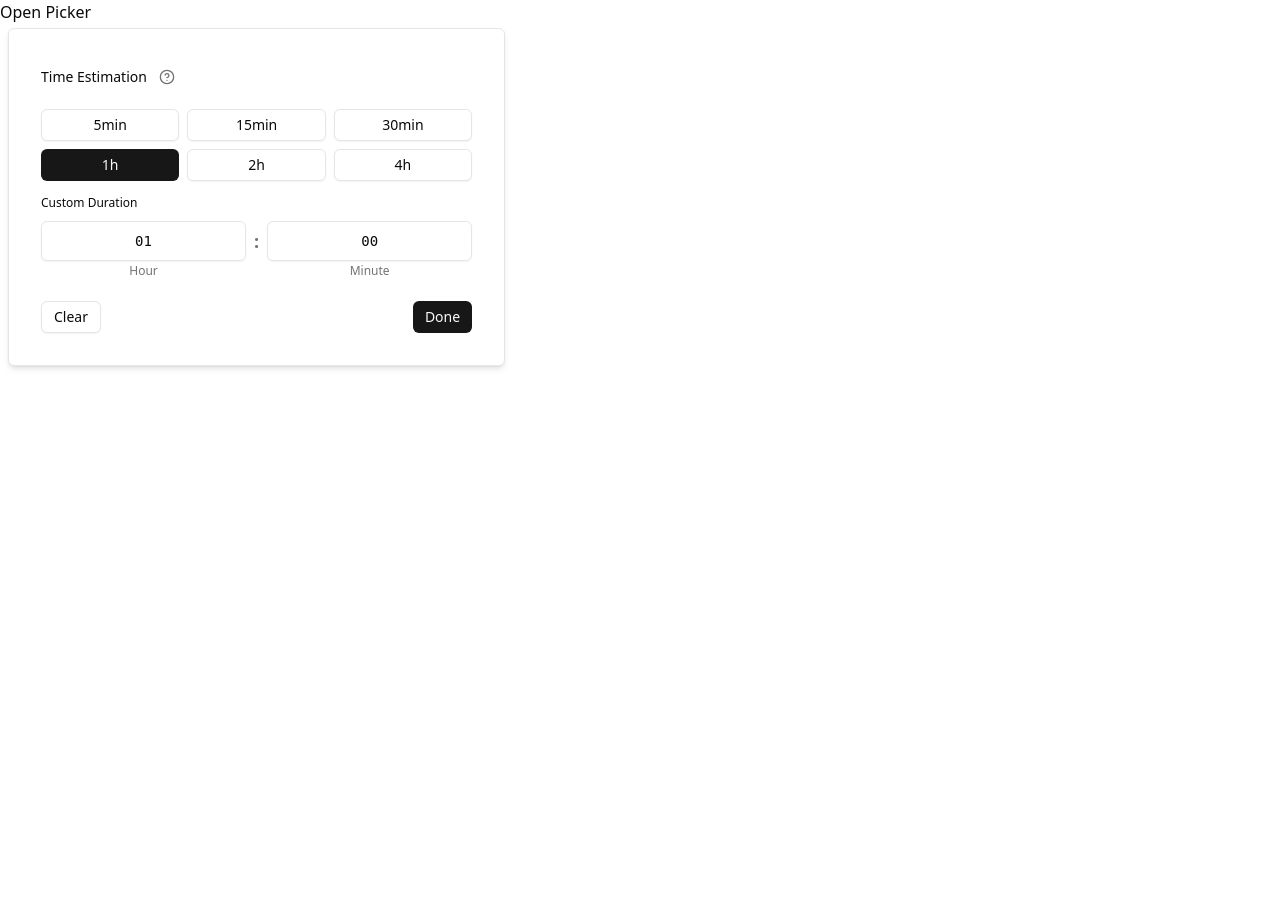
it: TimeEstimationPicker › validation › shows error for invalid hour input
This screenshot has width=1280, height=900.
Replace the text in the 1st field showing "01" with "abc": (144, 241) x1=41 y1=221 x2=246 y2=261
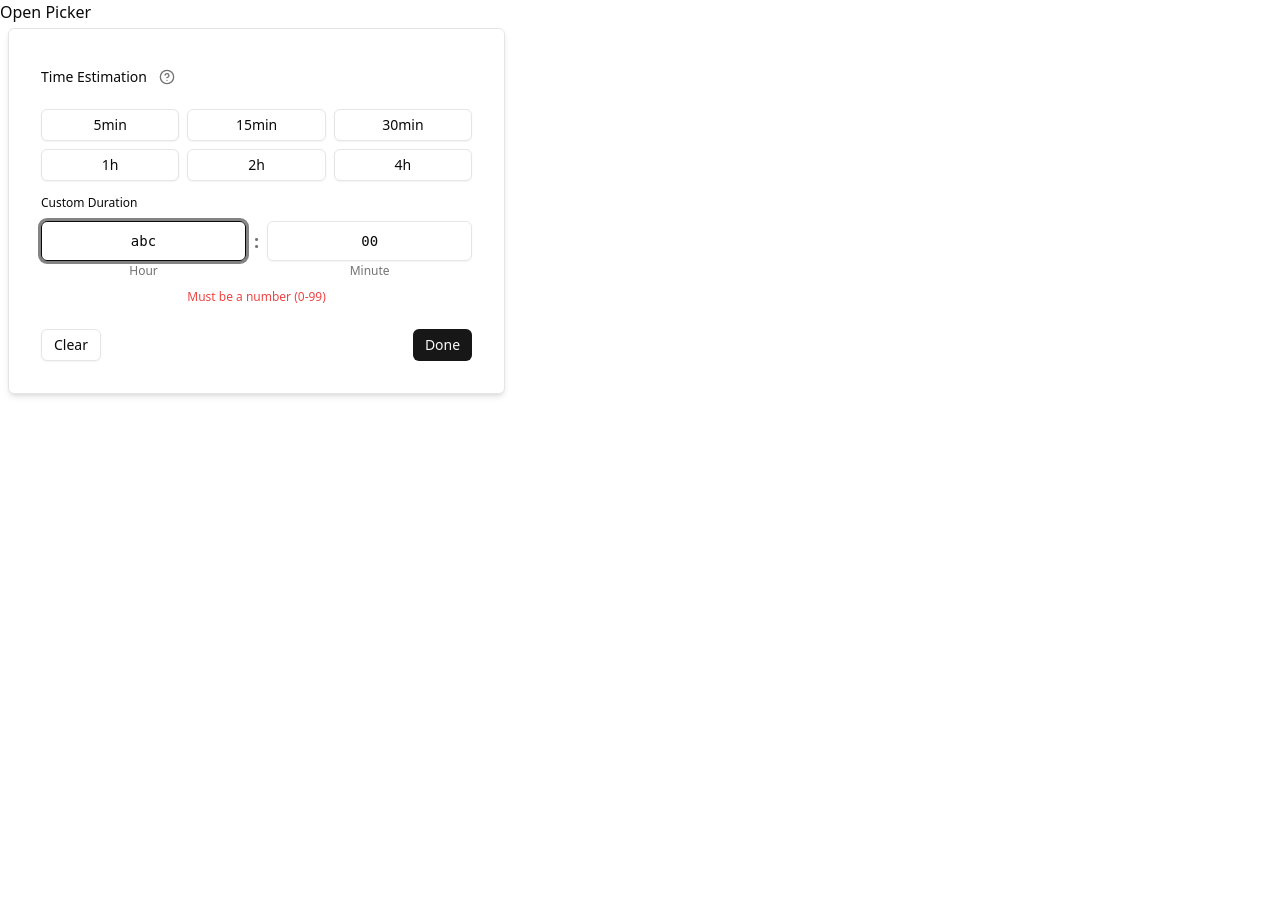
Expected: the text "Must be a number (0-99)" is shown, x1=187 y1=288 x2=326 y2=305
